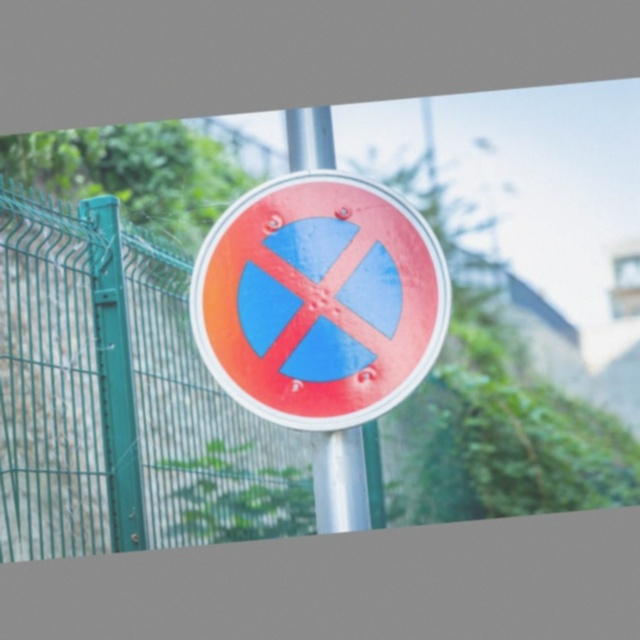No_Stopping_or_Standing: (185, 175, 462, 429)
